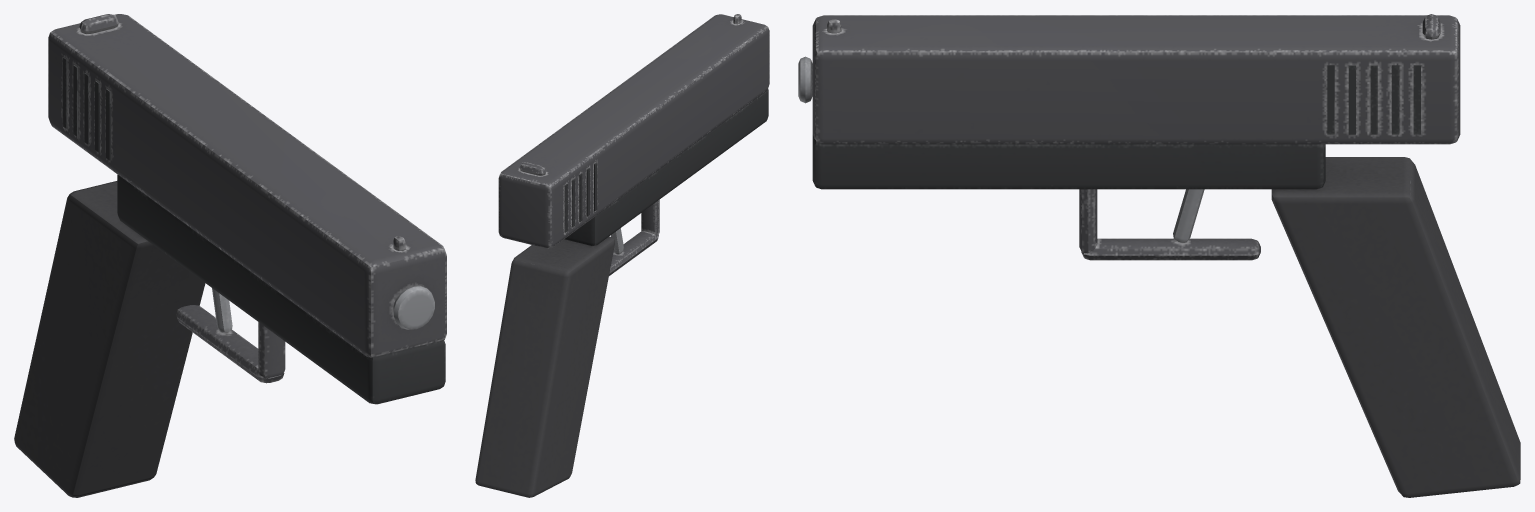
Rendered from glock.fbx.
3 renders of one model, left to right at view 1: azimuth 30°, elevation 25°; view 2: azimuth 150°, elevation 25°; view 3: azimuth 270°, elevation 25°, orthographic. The views are drawn at different scales.
Visible parts, largest first — view 1: glock; view 2: glock; view 3: glock.
Boxes of the visible parts, x1=… form: glock: x1=14, y1=14, x2=446, y2=497; glock: x1=475, y1=14, x2=769, y2=497; glock: x1=798, y1=14, x2=1520, y2=497.
Size of the model in its own units: 0.028 by 0.1412 by 0.2007.
